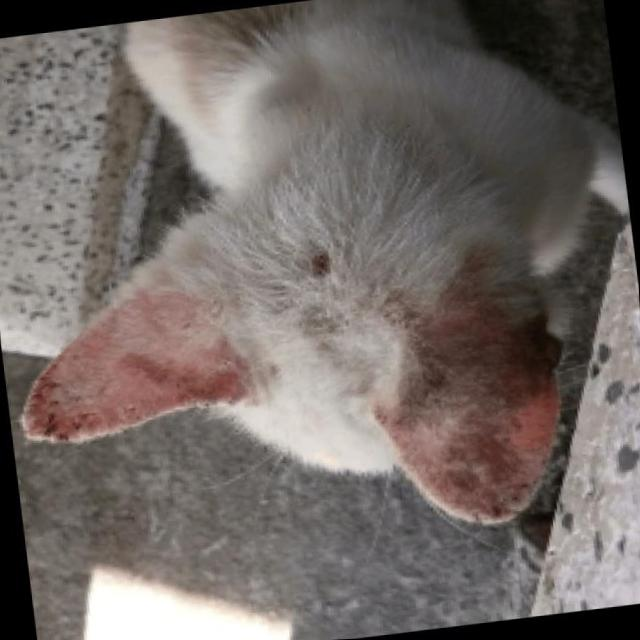Mange: (288, 236, 351, 288), (514, 320, 570, 370), (70, 402, 110, 432), (40, 354, 66, 396), (512, 458, 534, 506), (364, 399, 392, 428), (484, 498, 511, 526), (38, 412, 61, 438)
